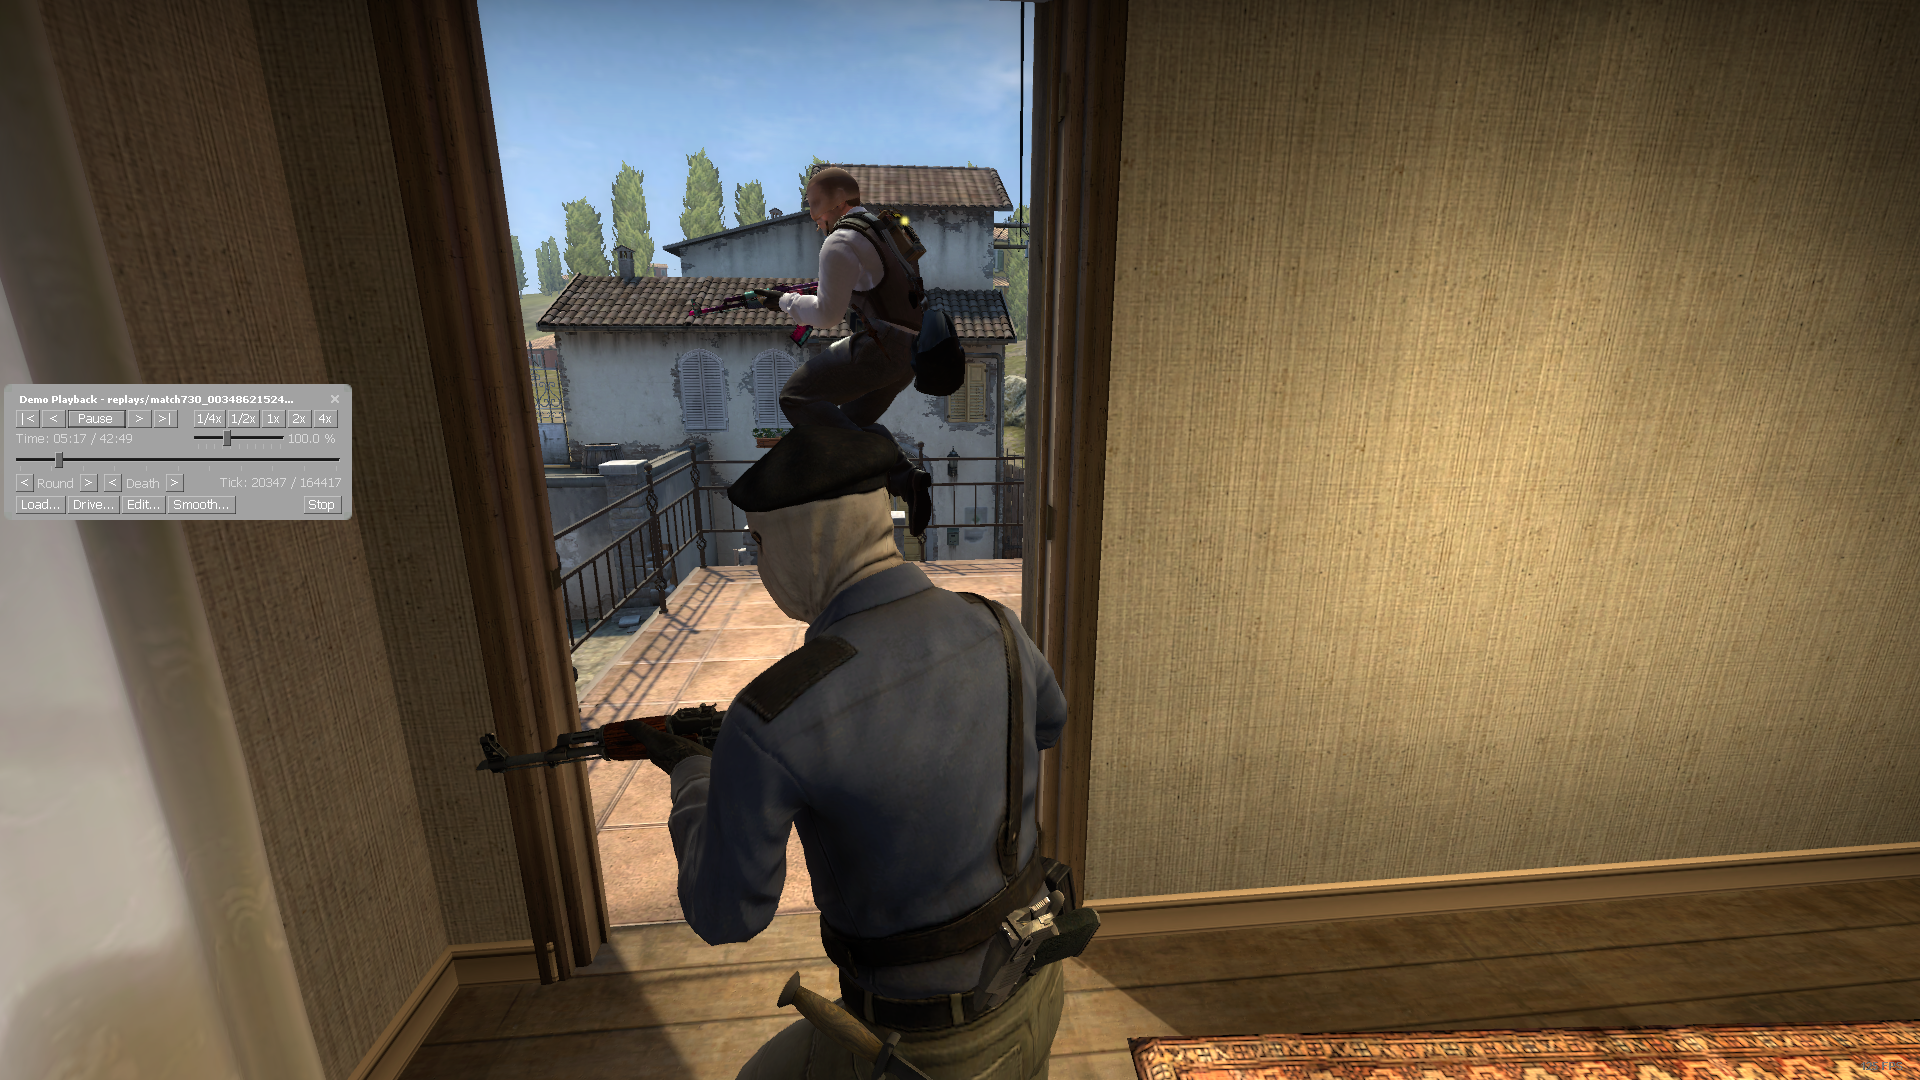t: (640, 426, 1124, 1080)
